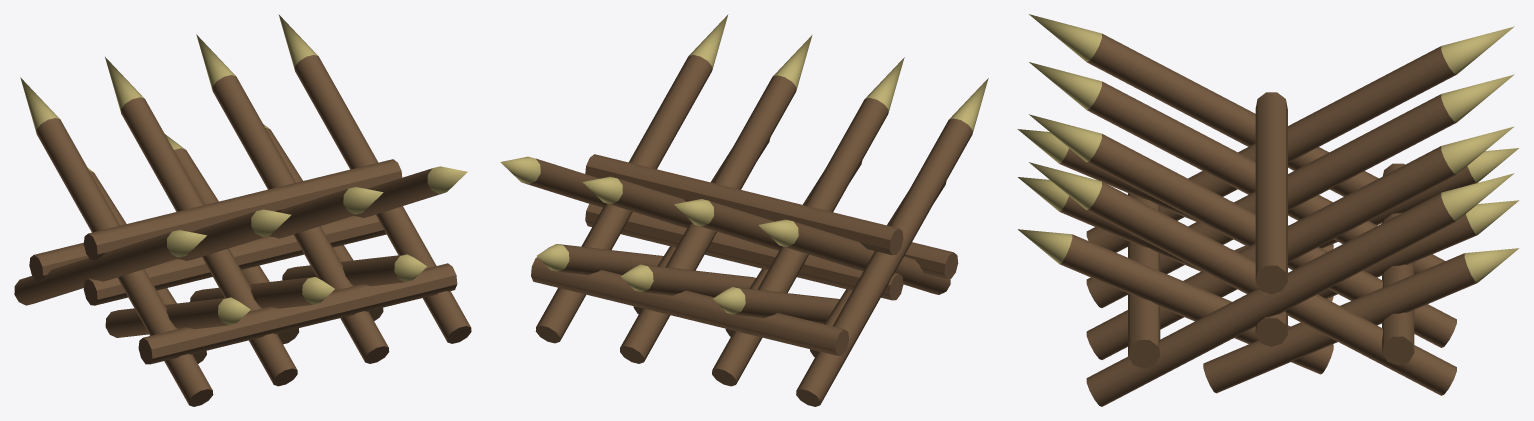
The model's file is LargeBaricade.fbx.
The picture shows the model from 3 angles, left to right: view 1: azimuth 30°, elevation 25°; view 2: azimuth 150°, elevation 25°; view 3: azimuth 270°, elevation 25°; orthographic projection. The views are drawn at different scales.
Visible parts, largest first — view 1: LargeBaricade; view 2: LargeBaricade; view 3: LargeBaricade.
Part boxes in pixels (x1,y1,x2,y2): LargeBaricade: [14, 14, 471, 406]; LargeBaricade: [500, 14, 988, 406]; LargeBaricade: [1017, 14, 1519, 406].
Size of the model in its own units: 100 by 64.65 by 123.
